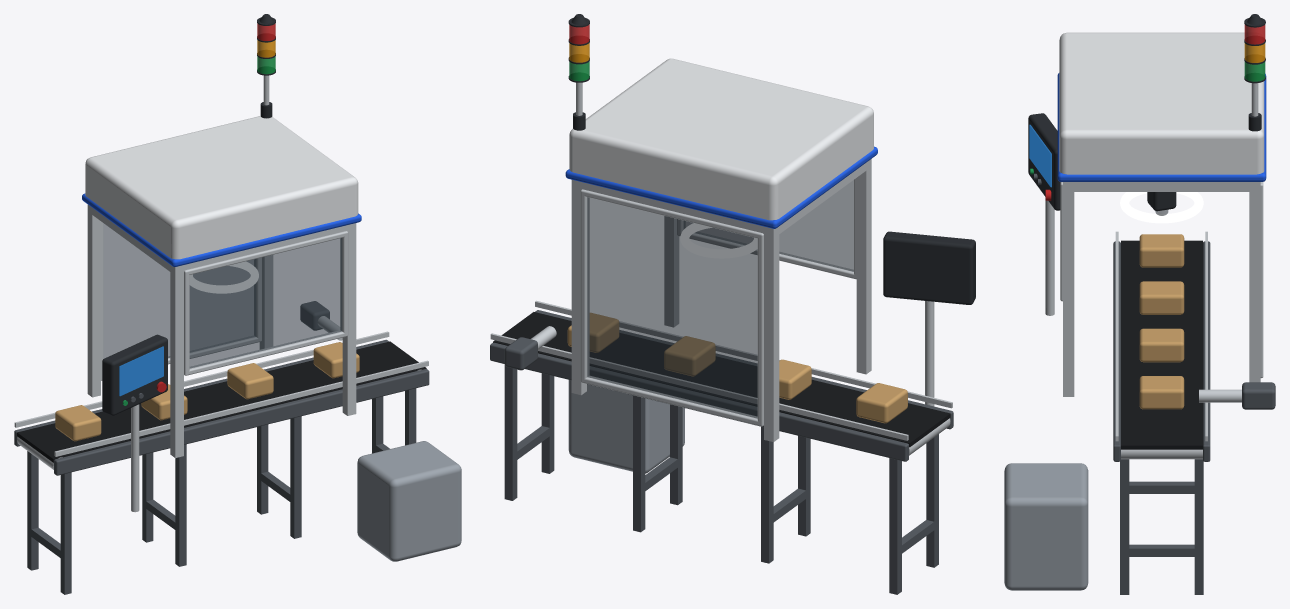
Rendered from inspection-station.glb.
The picture shows the model from 3 angles, left to right: view 1: azimuth 30°, elevation 25°; view 2: azimuth 150°, elevation 25°; view 3: azimuth 270°, elevation 25°; orthographic projection. The views are drawn at different scales.
Visible parts, largest first — view 1: inspection_station_paint_white, inspection_station_glass_tint, inspection_station_steel, inspection_station_dark_steel, inspection_station_paint_grey, inspection_station_rubber, inspection_station_product, inspection_station_graphite, inspection_station_accent_blue, inspection_station_screen, inspection_station_led; view 2: inspection_station_glass_tint, inspection_station_paint_white, inspection_station_steel, inspection_station_dark_steel, inspection_station_rubber, inspection_station_graphite, inspection_station_paint_grey, inspection_station_product, inspection_station_accent_blue, inspection_station_led; view 3: inspection_station_paint_white, inspection_station_steel, inspection_station_rubber, inspection_station_paint_grey, inspection_station_dark_steel, inspection_station_product, inspection_station_graphite, inspection_station_accent_blue, inspection_station_led, inspection_station_screen, andon_green, andon_red (+1 smaller).
Part boxes in pixels (x1,y1,x2,y2): inspection_station_paint_white: (85, 116, 358, 259); inspection_station_glass_tint: (103, 223, 342, 368); inspection_station_steel: (14, 75, 428, 512); inspection_station_dark_steel: (14, 301, 429, 594); inspection_station_paint_grey: (357, 441, 461, 561); inspection_station_rubber: (17, 341, 426, 462); inspection_station_product: (55, 342, 359, 441); inspection_station_graphite: (102, 14, 275, 415); inspection_station_accent_blue: (82, 193, 361, 266); inspection_station_screen: (119, 346, 163, 396); inspection_station_led: (189, 261, 258, 293); inspection_station_glass_tint: (587, 180, 853, 418); inspection_station_paint_white: (569, 58, 873, 220); inspection_station_steel: (490, 82, 952, 455); inspection_station_dark_steel: (490, 310, 953, 594); inspection_station_rubber: (493, 312, 950, 447); inspection_station_graphite: (568, 14, 975, 304); inspection_station_paint_grey: (568, 380, 684, 473); inspection_station_product: (567, 312, 907, 423); inspection_station_accent_blue: (565, 146, 877, 228); inspection_station_led: (680, 223, 757, 258); inspection_station_paint_white: (1059, 32, 1264, 174); inspection_station_steel: (1045, 83, 1263, 459); inspection_station_rubber: (1121, 240, 1202, 449); inspection_station_paint_grey: (1004, 463, 1088, 590); inspection_station_dark_steel: (1034, 173, 1275, 594); inspection_station_product: (1139, 234, 1184, 409); inspection_station_graphite: (1028, 14, 1265, 211); inspection_station_accent_blue: (1057, 73, 1266, 181); inspection_station_led: (1120, 192, 1203, 223); inspection_station_screen: (1029, 124, 1051, 187); andon_green: (1244, 62, 1265, 81); andon_red: (1244, 24, 1265, 44).
Size of the model in its own units: 2.6 by 3.14 by 1.45.
